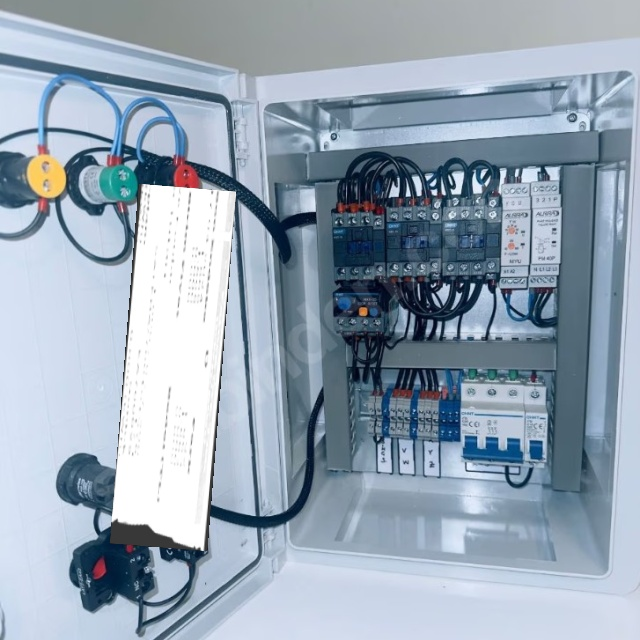electricity-bill: (109, 184, 235, 551)
